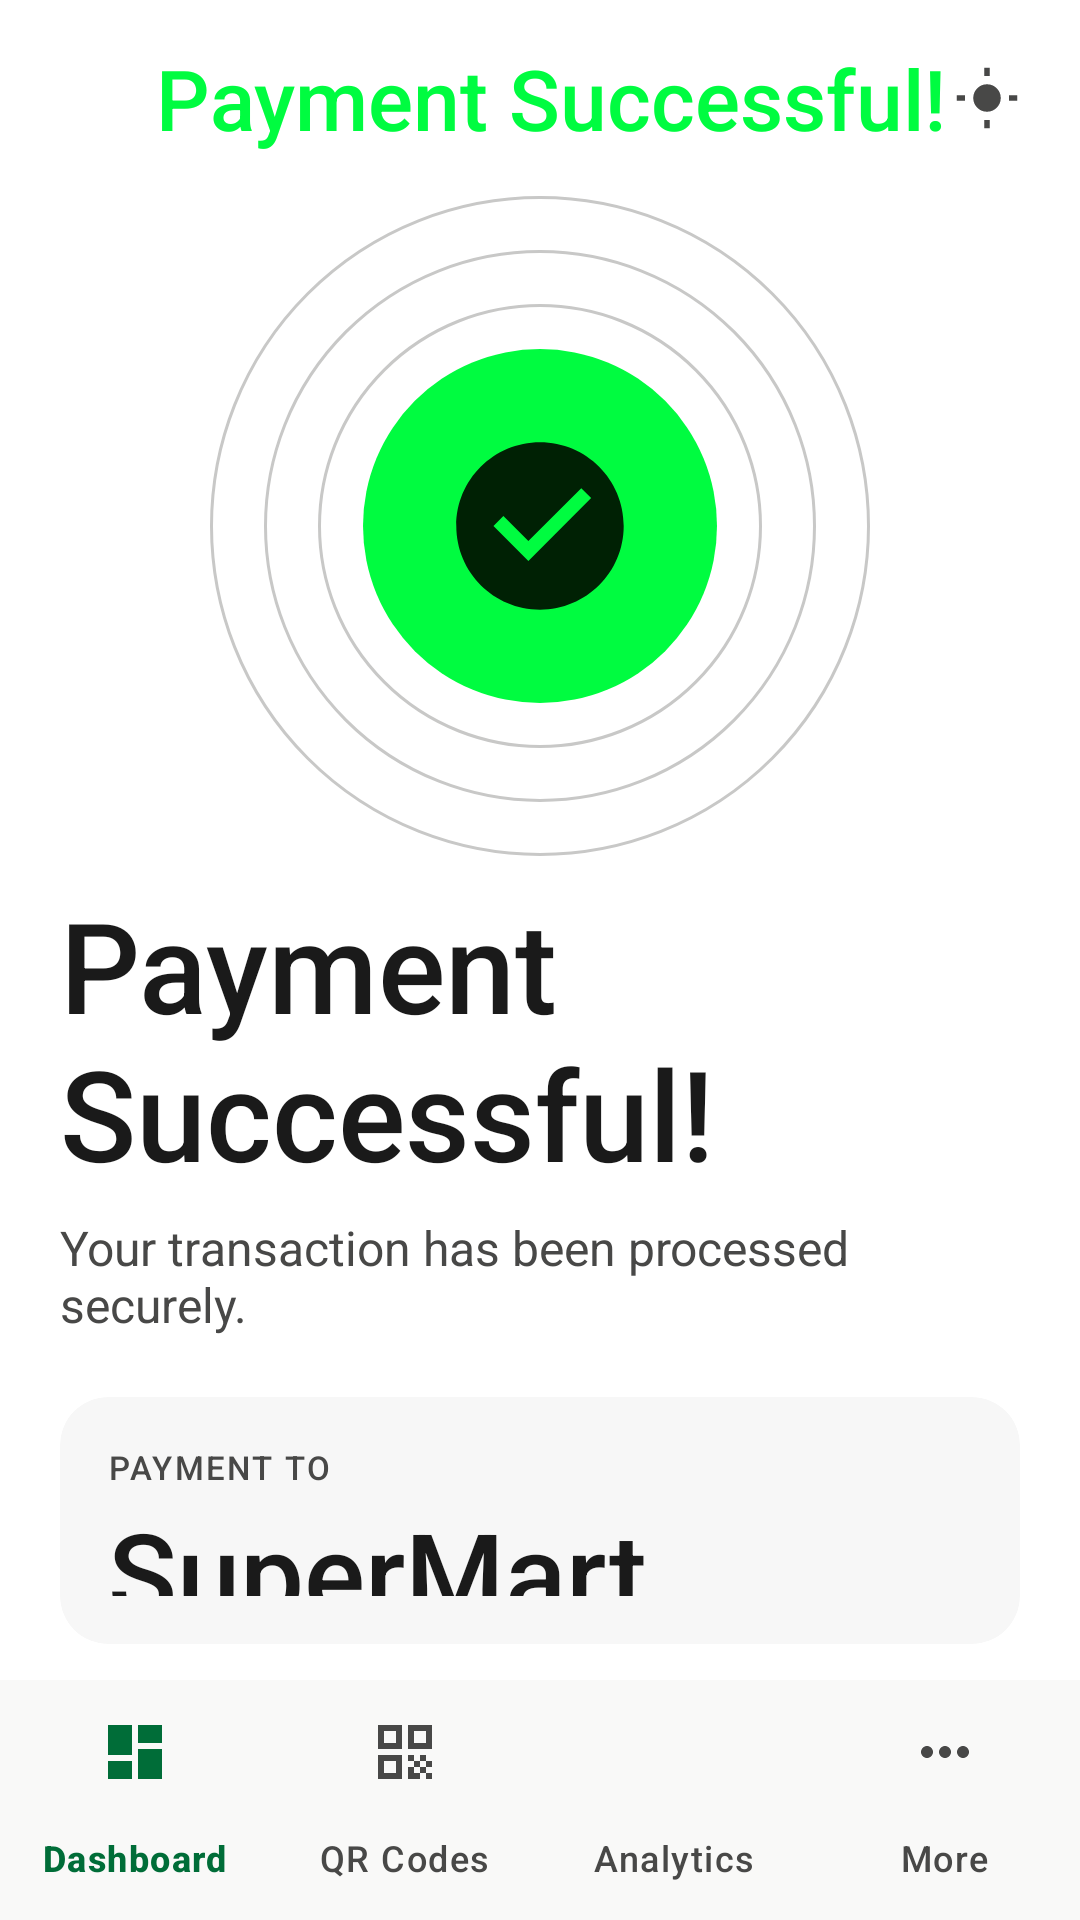

Point at icon controls on the screen. Image size 1080*1920, points as [x,y].
Success: [540,526]
Toggle light mode: [987,98]
